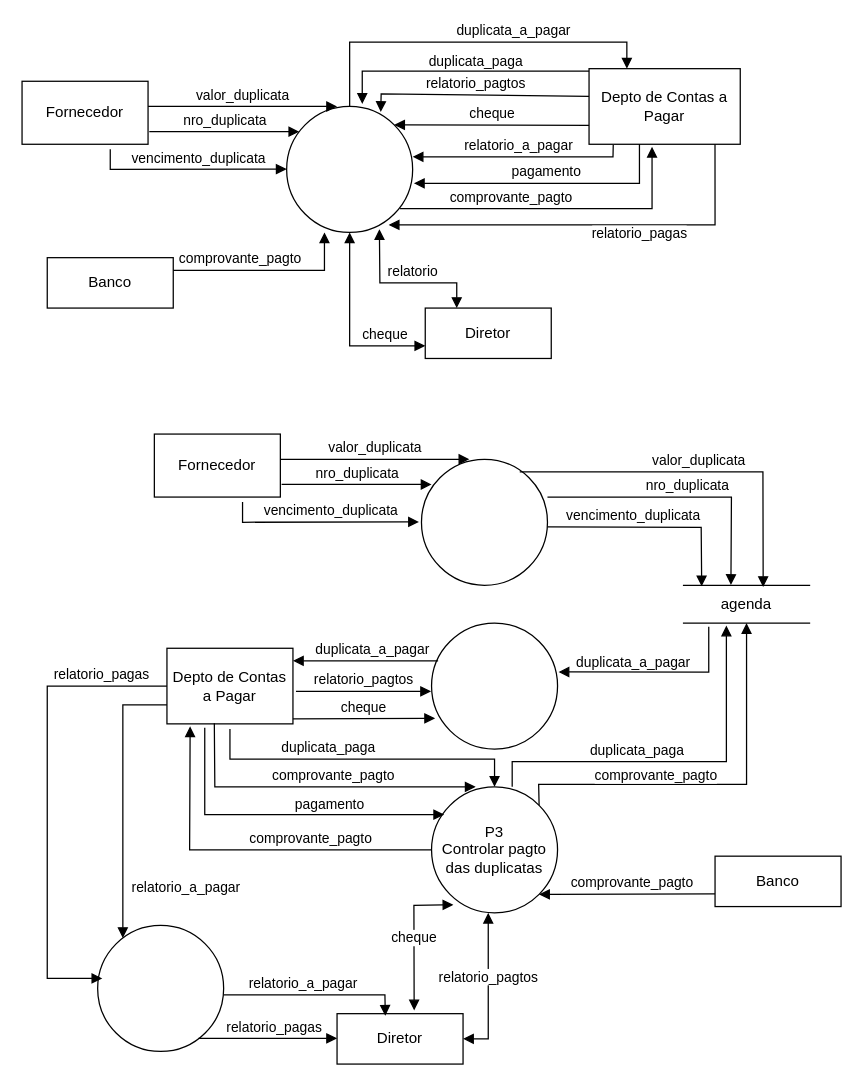
Some shapes in this 863 by 1086 pixel diagram are drawn without their labels. Each missing label, with the centre of its shape:
"P1 Receber duplicatas" goes at [483,521].
"P2 Analisar duplicatas a vencer" goes at [494,685].
"P4 Gerar relatórios gerenciais" goes at [160,987].
"Sistema de Contas a Pagar" goes at [349,168].
